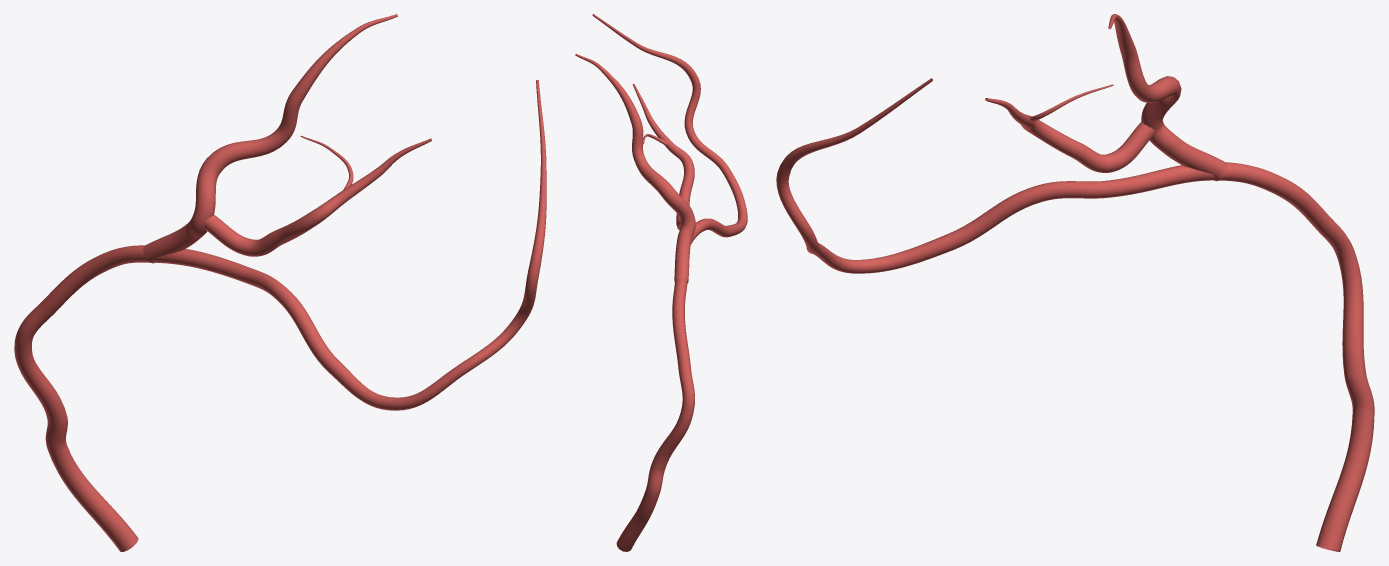
3 views of the same model, side by side, from view 1: azimuth 30°, elevation 25°; view 2: azimuth 150°, elevation 25°; view 3: azimuth 270°, elevation 25° (orthographic). The views are drawn at different scales.
Parts seen in each view (by area): view 1: 右侧顶后动脉; view 2: 右侧顶后动脉; view 3: 右侧顶后动脉.
Part boxes in pixels (x1,y1,x2,y2): 右侧顶后动脉: [14, 14, 546, 551]; 右侧顶后动脉: [575, 14, 747, 551]; 右侧顶后动脉: [776, 14, 1374, 551].
Size of the model in its own units: 0.039 by 0.064 by 0.0562.
